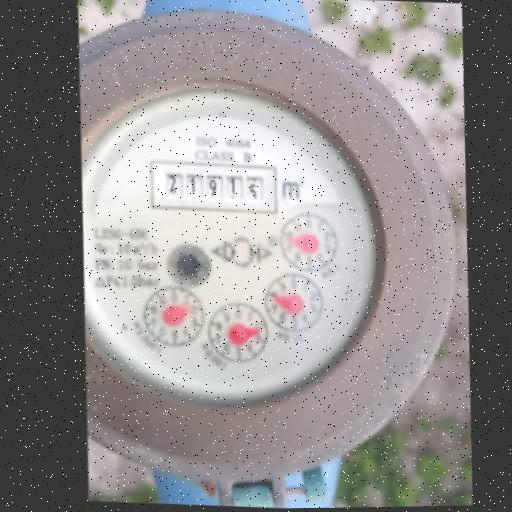1: (187, 175, 204, 198), (228, 177, 243, 199)
2: (166, 175, 183, 199)
5: (247, 177, 264, 200)
9: (207, 175, 224, 199)
border_water_meter_number: (147, 158, 280, 216)
